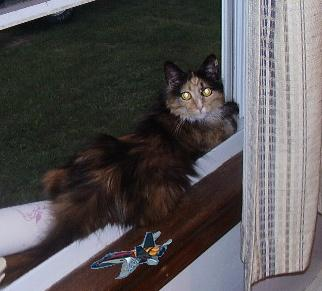tampered: (92, 232, 172, 279)
